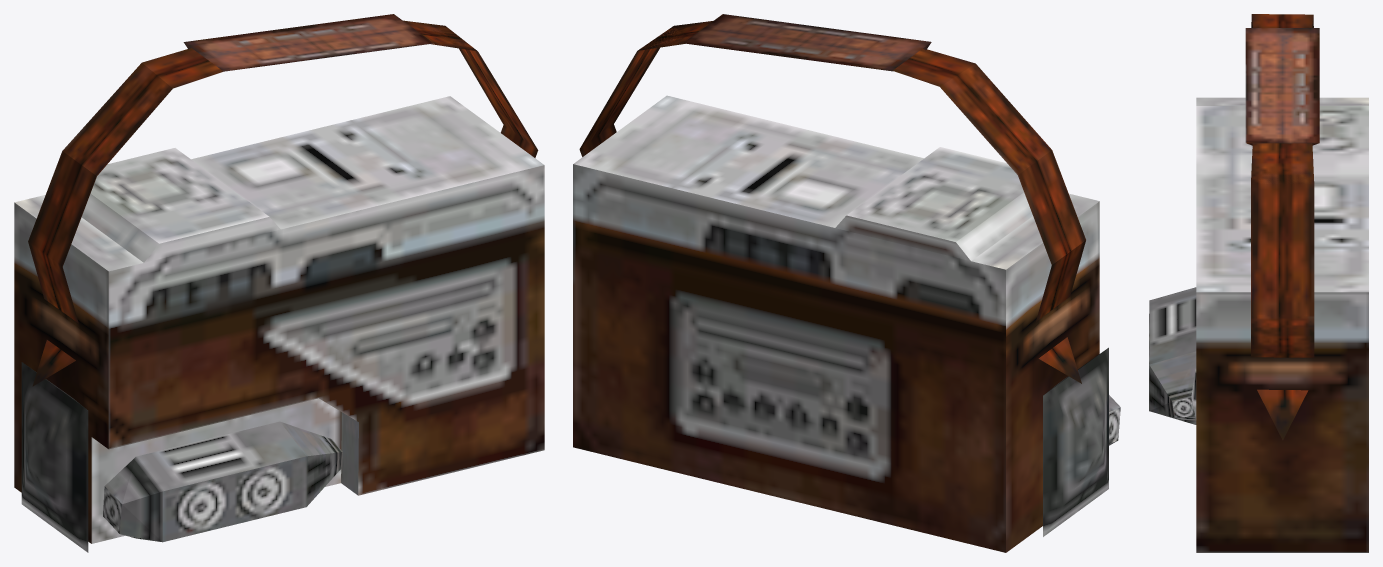
The model's file is eqp_tool_computer_toolkit_l1.fbx.
3 renders of one model, left to right at view 1: azimuth 30°, elevation 25°; view 2: azimuth 150°, elevation 25°; view 3: azimuth 270°, elevation 25°, orthographic. The views are drawn at different scales.
Parts seen in each view (by area): view 1: mesh_node; view 2: mesh_node; view 3: mesh_node.
Boxes of the visible parts, box(x1,y1,x2,y2) form: mesh_node: box(14, 14, 544, 552); mesh_node: box(573, 14, 1120, 552); mesh_node: box(1149, 14, 1368, 552).
Size of the model in its own units: 0.3541 by 0.2849 by 0.1441.
